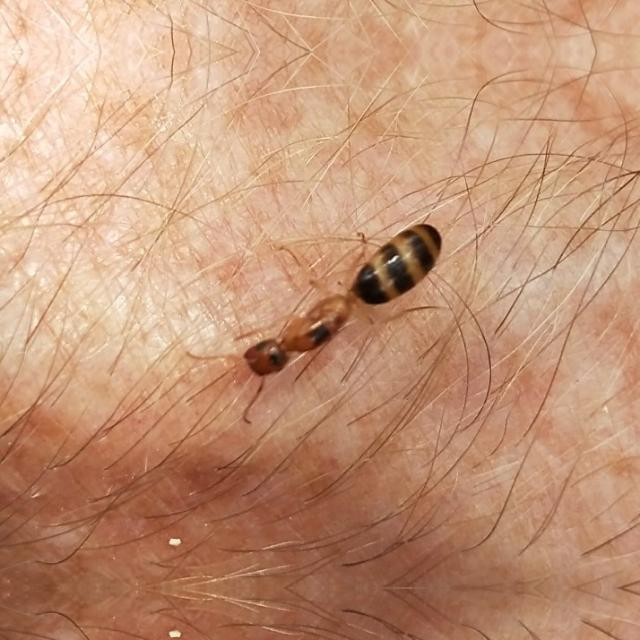Colobopsis: (215, 220, 443, 394)
